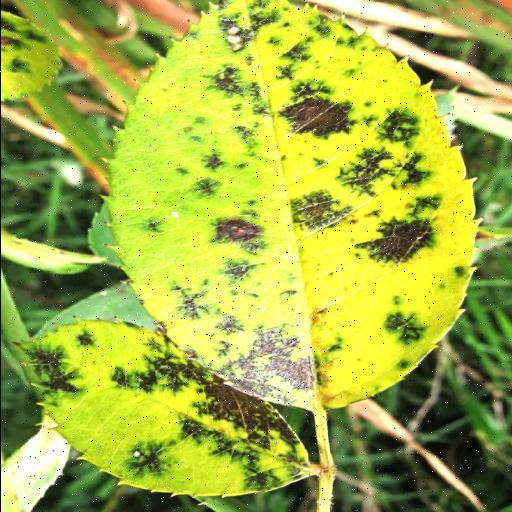downy_mildew: (107, 0, 476, 408), (20, 321, 312, 495), (1, 416, 68, 511), (35, 283, 155, 336), (1, 12, 59, 99), (1, 230, 104, 273), (87, 205, 119, 266)
